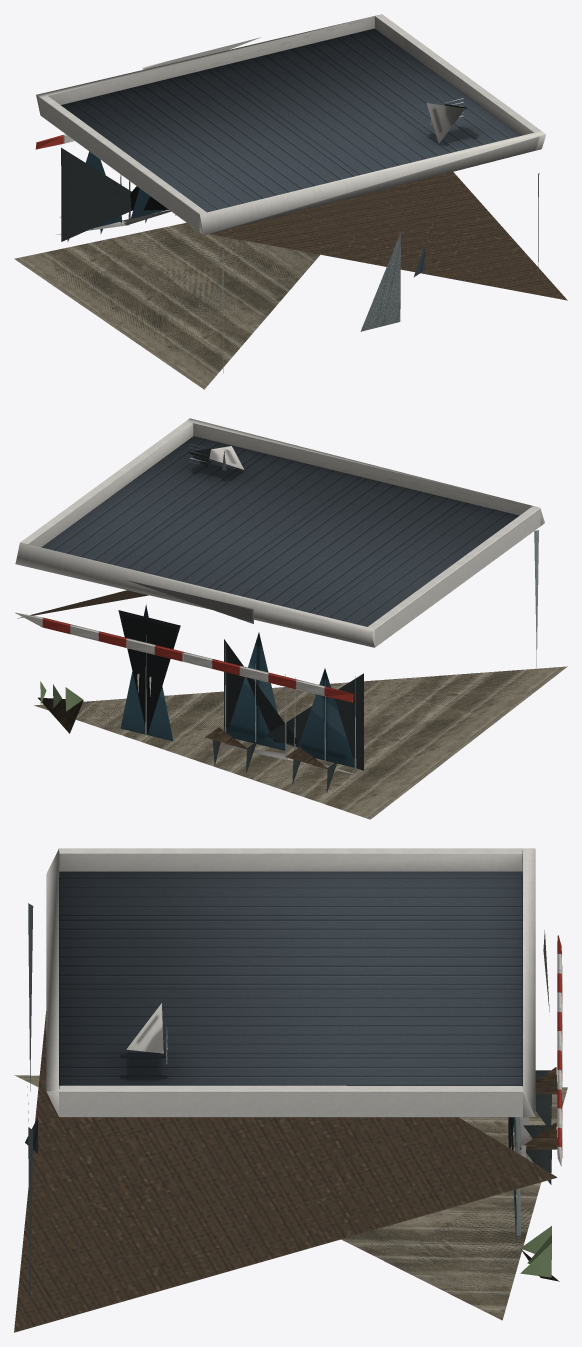
The model's file is shop_003.obj.
3 renders of one model, top to bottom at view 1: azimuth 30°, elevation 25°; view 2: azimuth 150°, elevation 25°; view 3: azimuth 270°, elevation 25°, orthographic. The views are drawn at different scales.
Visible parts, largest first — view 1: shop_003; view 2: shop_003; view 3: shop_003.
Part boxes in pixels (x1,y1,x2,y2): shop_003: (14,14,567,389); shop_003: (15,418,567,819); shop_003: (14,848,567,1332).
Bounding box in the file's own units: 7.5 × 3.77 × 6.8.
Materials: 1 (1 with a texture image).
